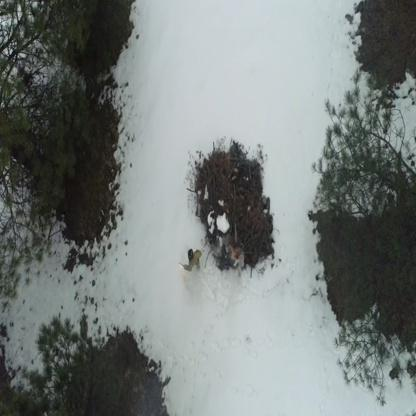Fire: (230, 244, 245, 261)
